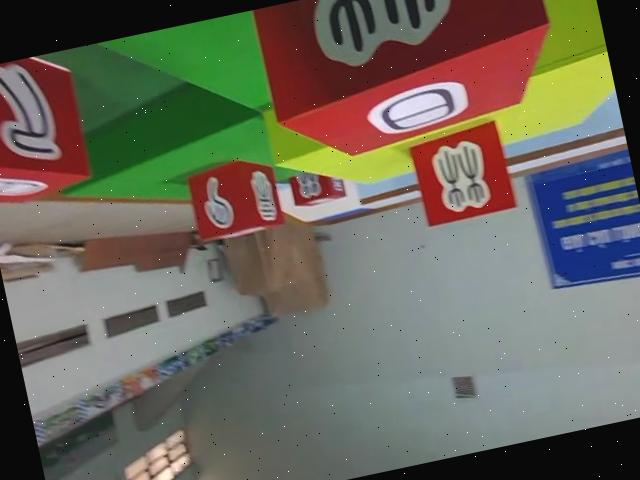R2 Fake: (249, 0, 568, 175), (0, 48, 98, 213), (403, 117, 519, 231), (180, 152, 286, 248)
